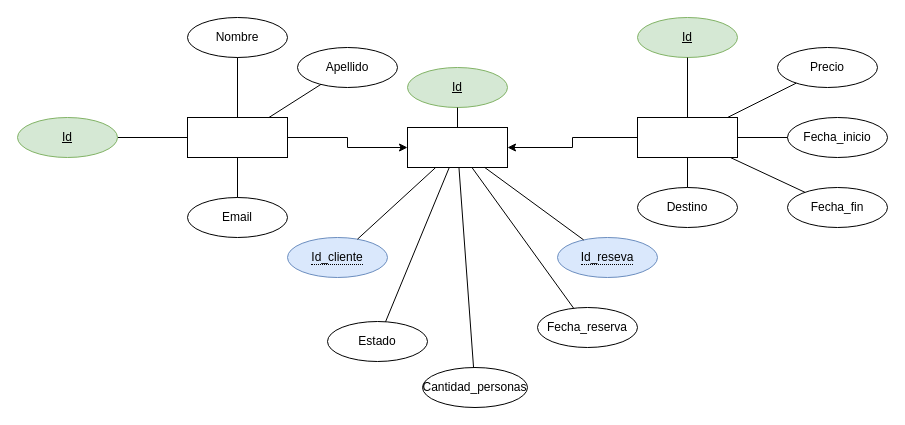
Image size: 905x425. Some labels were removed from this diagram. Here are the shapes that lost their labels. From the top down, the box of each, then its label:
(186, 116, 288, 158): Cliente
(406, 126, 508, 168): Reserva
(636, 116, 738, 158): Paquete
